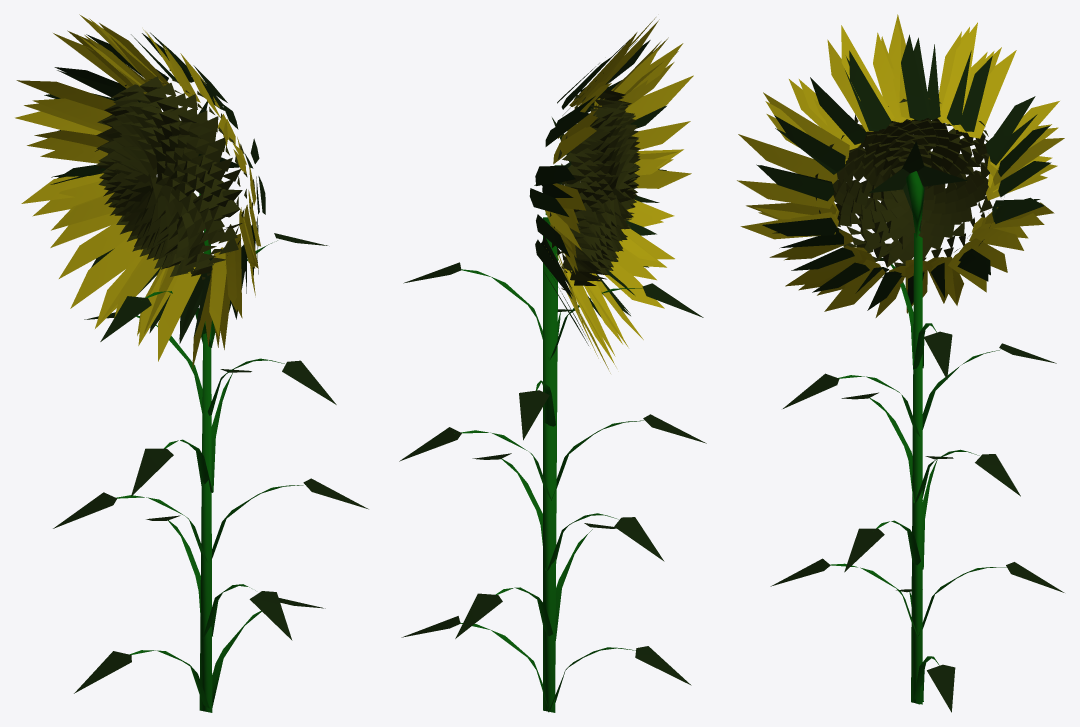
File: flower 3.FBX
The picture shows the model from 3 angles, left to right: view 1: azimuth 30°, elevation 25°; view 2: azimuth 150°, elevation 25°; view 3: azimuth 270°, elevation 25°; orthographic projection. The views are drawn at different scales.
Parts seen in each view (by area): view 1: Sunflow01; view 2: Sunflow01; view 3: Sunflow01.
Part boxes in pixels (x1=…): Sunflow01: x1=15, y1=14, x2=368, y2=712; Sunflow01: x1=399, y1=17, x2=706, y2=712; Sunflow01: x1=737, y1=14, x2=1064, y2=712.
Size of the model in its own units: 16678 by 40898 by 18682.
